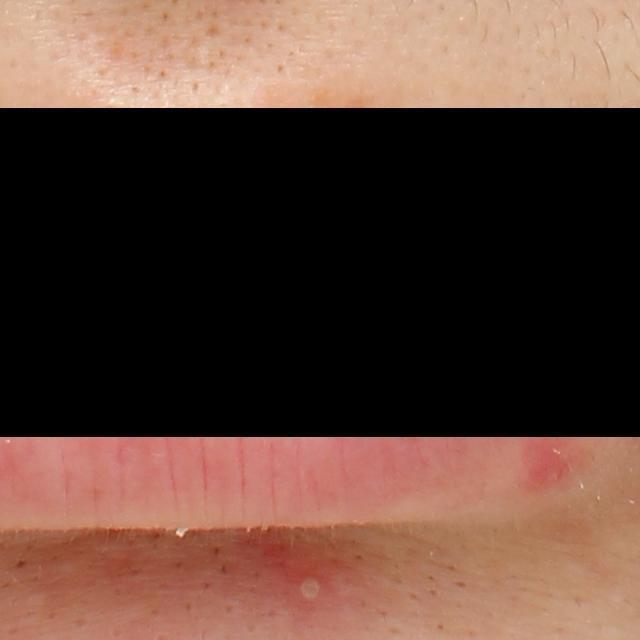papule: (520, 437, 588, 497)
pustule: (280, 556, 355, 619)
